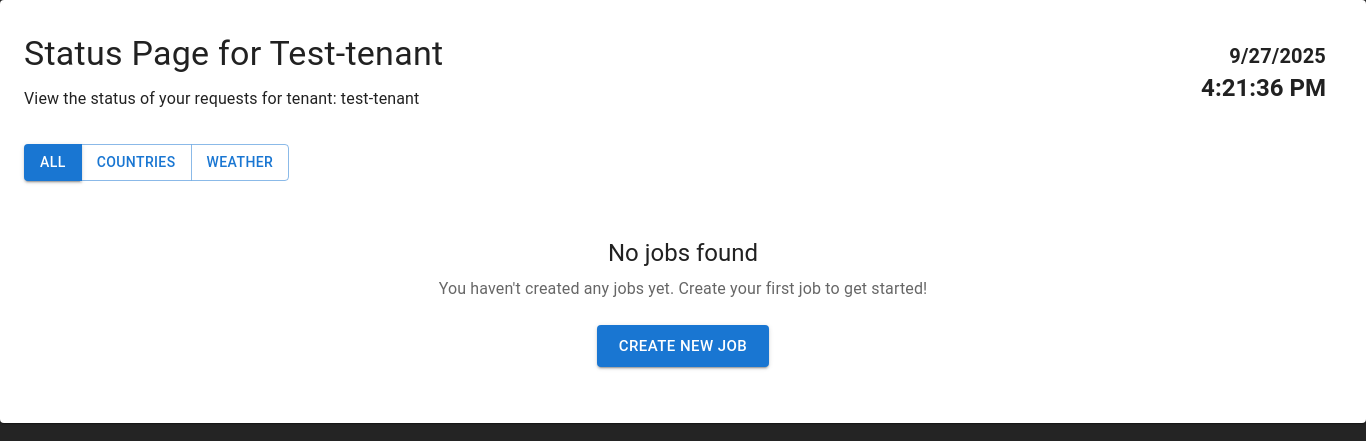
Test: StatusPage › should show empty state message for filtered results
expect the heading "No jobs found" is shown: met, box [608, 238, 758, 266]
# Click on Countries filter
Click the button "Countries" at [136, 162], box [81, 144, 192, 180]
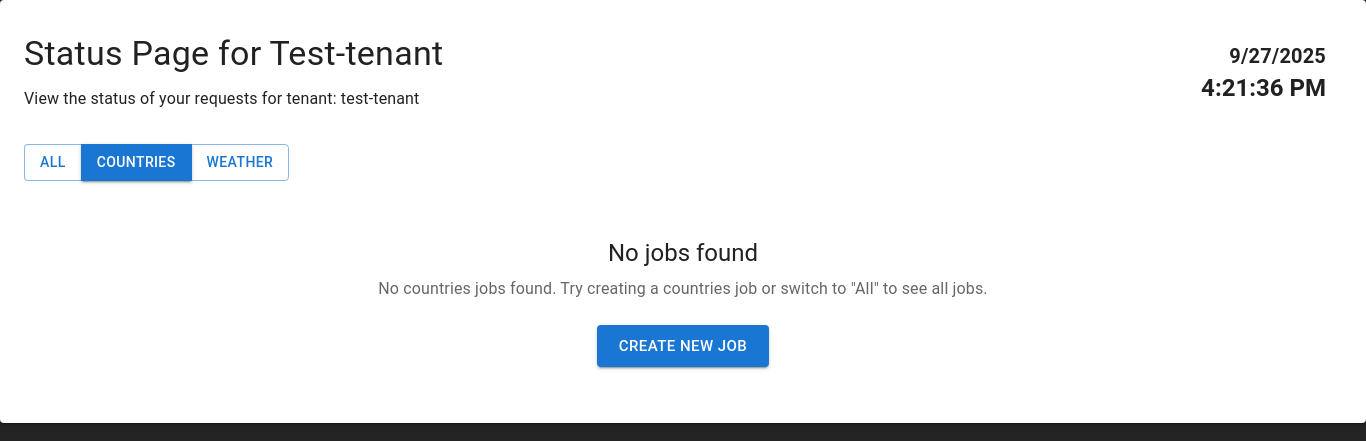
expect the text "No countries jobs found" is shown: met, box [378, 279, 988, 298]
